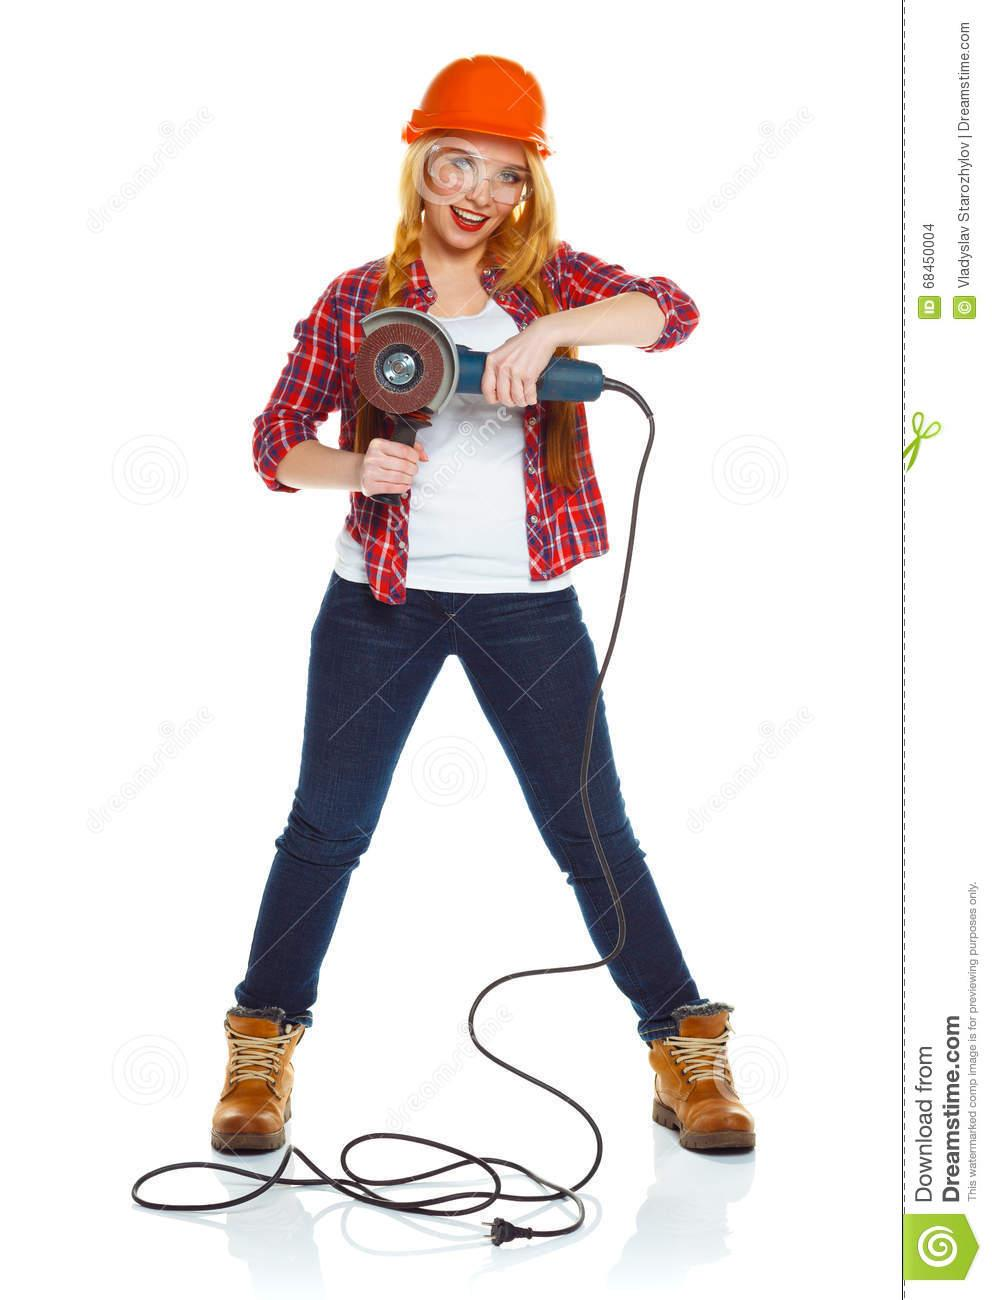helmet: (401, 51, 557, 161)
